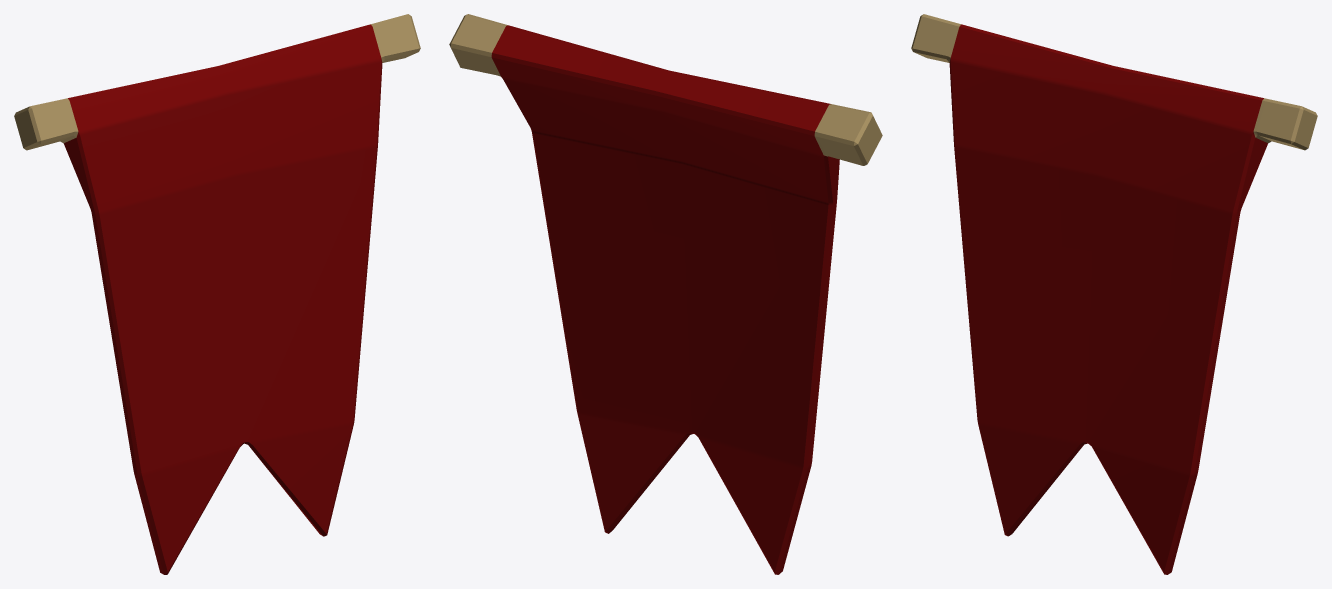
Rendered from Small_Banner.fbx.
3 views of the same model, side by side, from view 1: azimuth 30°, elevation 25°; view 2: azimuth 150°, elevation 25°; view 3: azimuth 330°, elevation 25° (orthographic). The views are drawn at different scales.
Parts seen in each view (by area): view 1: pCylinder1; view 2: pCylinder1; view 3: pCylinder1.
Boxes of the visible parts, box(x1,y1,x2,y2) form: pCylinder1: box(14, 14, 420, 574); pCylinder1: box(449, 14, 882, 574); pCylinder1: box(911, 14, 1317, 574).
Bounding box in the file's own units: 57.07 × 67.78 × 11.06.
